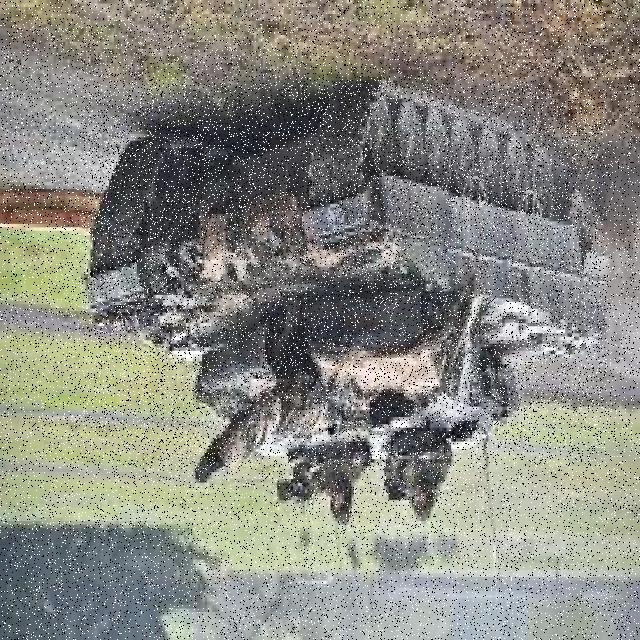MIL_MBT: (83, 83, 606, 467)
